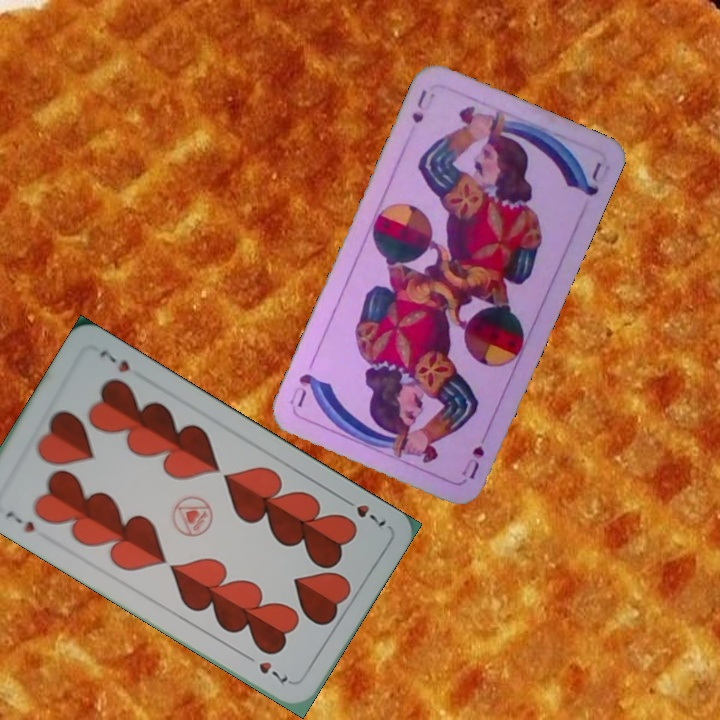H7: (337, 493, 389, 530), (2, 506, 37, 536)
SU: (407, 85, 438, 126), (457, 440, 487, 482)
